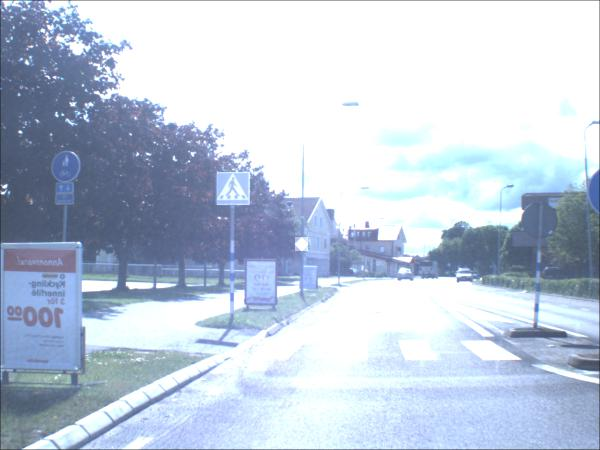PASS_RIGHT_SIDE: (588, 168, 600, 216)
PEDESTRIAN_CROSSING: (217, 173, 251, 207)
PRIORITY_ROAD: (295, 238, 309, 253)
